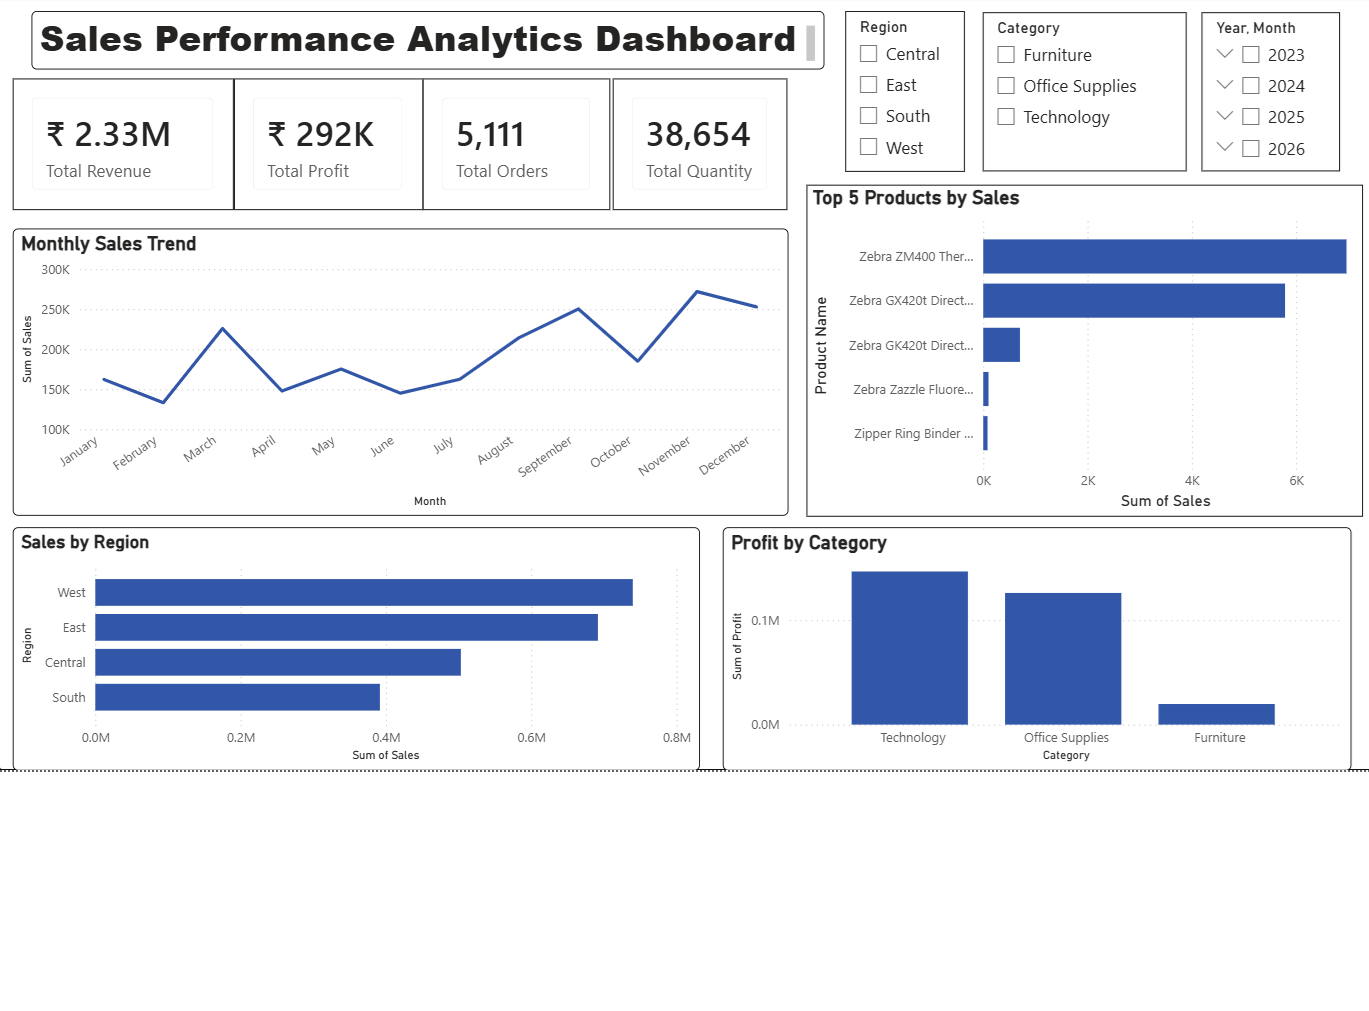

The dashboard page shown, as its layout file describes it:
{"tool":"powerbi","page":{"name":"Page 1","canvas":[1280,720],"ordinal":0},"visuals":[{"type":"cardVisual","fields":{"Data":["Sum(samplesuperstore.Sales)"]},"box":[12.3,76.8,205.8,122.1],"z":0},{"type":"cardVisual","fields":{"Data":["Sum(samplesuperstore.Profit)"]},"box":[218.2,76.8,175.6,122.1],"z":1000},{"type":"cardVisual","fields":{"Data":["Count(samplesuperstore.Order ID)"]},"box":[394.2,76.7,174.4,122.1],"z":2000},{"type":"cardVisual","fields":{"Data":["Sum(samplesuperstore.Quantity)"]},"box":[570.9,76.7,162.8,122.1],"z":3000},{"type":"lineChart","title":"Monthly Sales Trend","fields":{"Y":["Sum(samplesuperstore.Sales)"],"Category":["samplesuperstore.Order Date.Variation.Date Hierarchy.Month"]},"box":[12.3,216.8,721.8,267.6],"z":4000},{"type":"clusteredBarChart","title":"Sales by Region","fields":{"Category":["samplesuperstore.Region"],"Y":["Sum(samplesuperstore.Sales)"]},"box":[12.3,494,639.5,226.4],"z":5000},{"type":"clusteredColumnChart","title":"Profit by Category","fields":{"Category":["samplesuperstore.Category"],"Y":["Sum(samplesuperstore.Profit)"]},"box":[673.8,494,584.6,226.4],"z":6000},{"type":"slicer","fields":{"Values":["samplesuperstore.Region"]},"box":[787.7,13.7,111.1,149.6],"z":7000},{"type":"slicer","fields":{"Values":["samplesuperstore.Category"]},"box":[915.3,15.1,189.4,148.2],"z":8000},{"type":"slicer","fields":{"Values":["samplesuperstore.Order Date.Variation.Date Hierarchy.Year","samplesuperstore.Order Date.Variation.Date Hierarchy.Month"]},"box":[1118.4,15.1,129,148.2],"z":9000},{"type":"textbox","box":[30.2,14,737.2,54.7],"z":10000},{"type":"barChart","title":"Top 5 Products by Sales","fields":{"Category":["samplesuperstore.Product Name"],"Y":["Sum(samplesuperstore.Sales)"]},"box":[750.6,175.6,517.3,308.7],"z":11000}]}

Visuals, with their boxes in screenshot pixels (x1, y1, x2, y2):
cardVisual - Sum(samplesuperstore.Sales): x1=6, y1=70, x2=231, y2=203
cardVisual - Sum(samplesuperstore.Profit): x1=231, y1=70, x2=423, y2=203
cardVisual - Count(samplesuperstore.Order ID): x1=424, y1=70, x2=615, y2=203
cardVisual - Sum(samplesuperstore.Quantity): x1=617, y1=70, x2=795, y2=203
"Monthly Sales Trend" lineChart: x1=6, y1=223, x2=796, y2=515
"Sales by Region" clusteredBarChart: x1=6, y1=526, x2=706, y2=774
"Profit by Category" clusteredColumnChart: x1=730, y1=526, x2=1368, y2=774
slicer - samplesuperstore.Region: x1=854, y1=1, x2=976, y2=164
slicer - samplesuperstore.Category: x1=994, y1=2, x2=1201, y2=164
slicer - samplesuperstore.Order Date.Variation.Date Hierarchy.Year x samplesuperstore.Order Date.Variation.Date Hierarchy.Month: x1=1216, y1=2, x2=1357, y2=164
textbox: x1=26, y1=1, x2=832, y2=61
"Top 5 Products by Sales" barChart: x1=814, y1=178, x2=1368, y2=515
